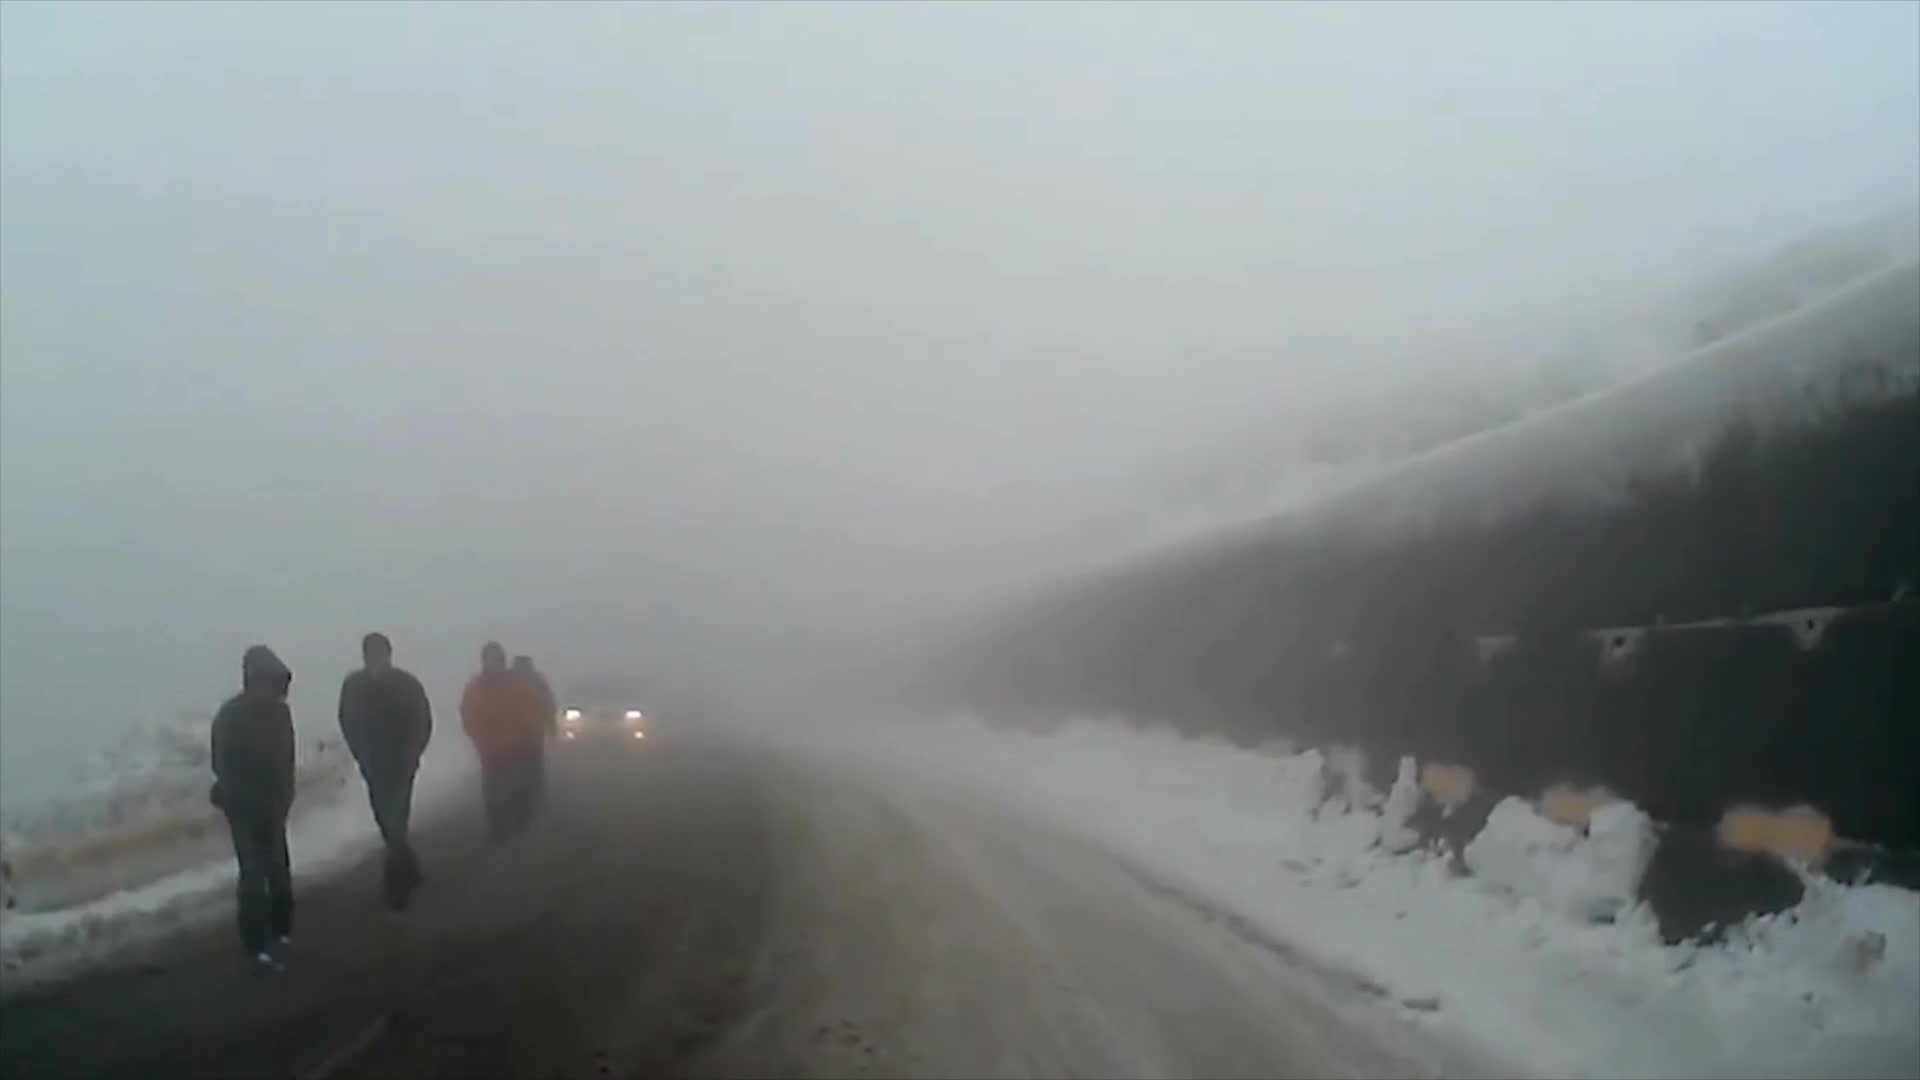pedestrian: (206, 643, 305, 964), (336, 630, 436, 915), (458, 639, 553, 850)
vehicle: (556, 676, 653, 760)
